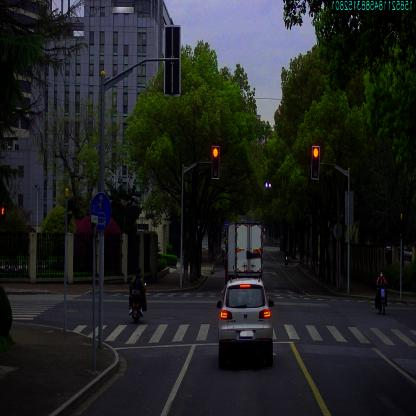traffic-light: (212, 146, 219, 178), (312, 146, 319, 178)
